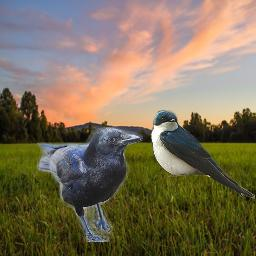Crow: (37, 127, 143, 242)
Swallow: (151, 110, 255, 199)
